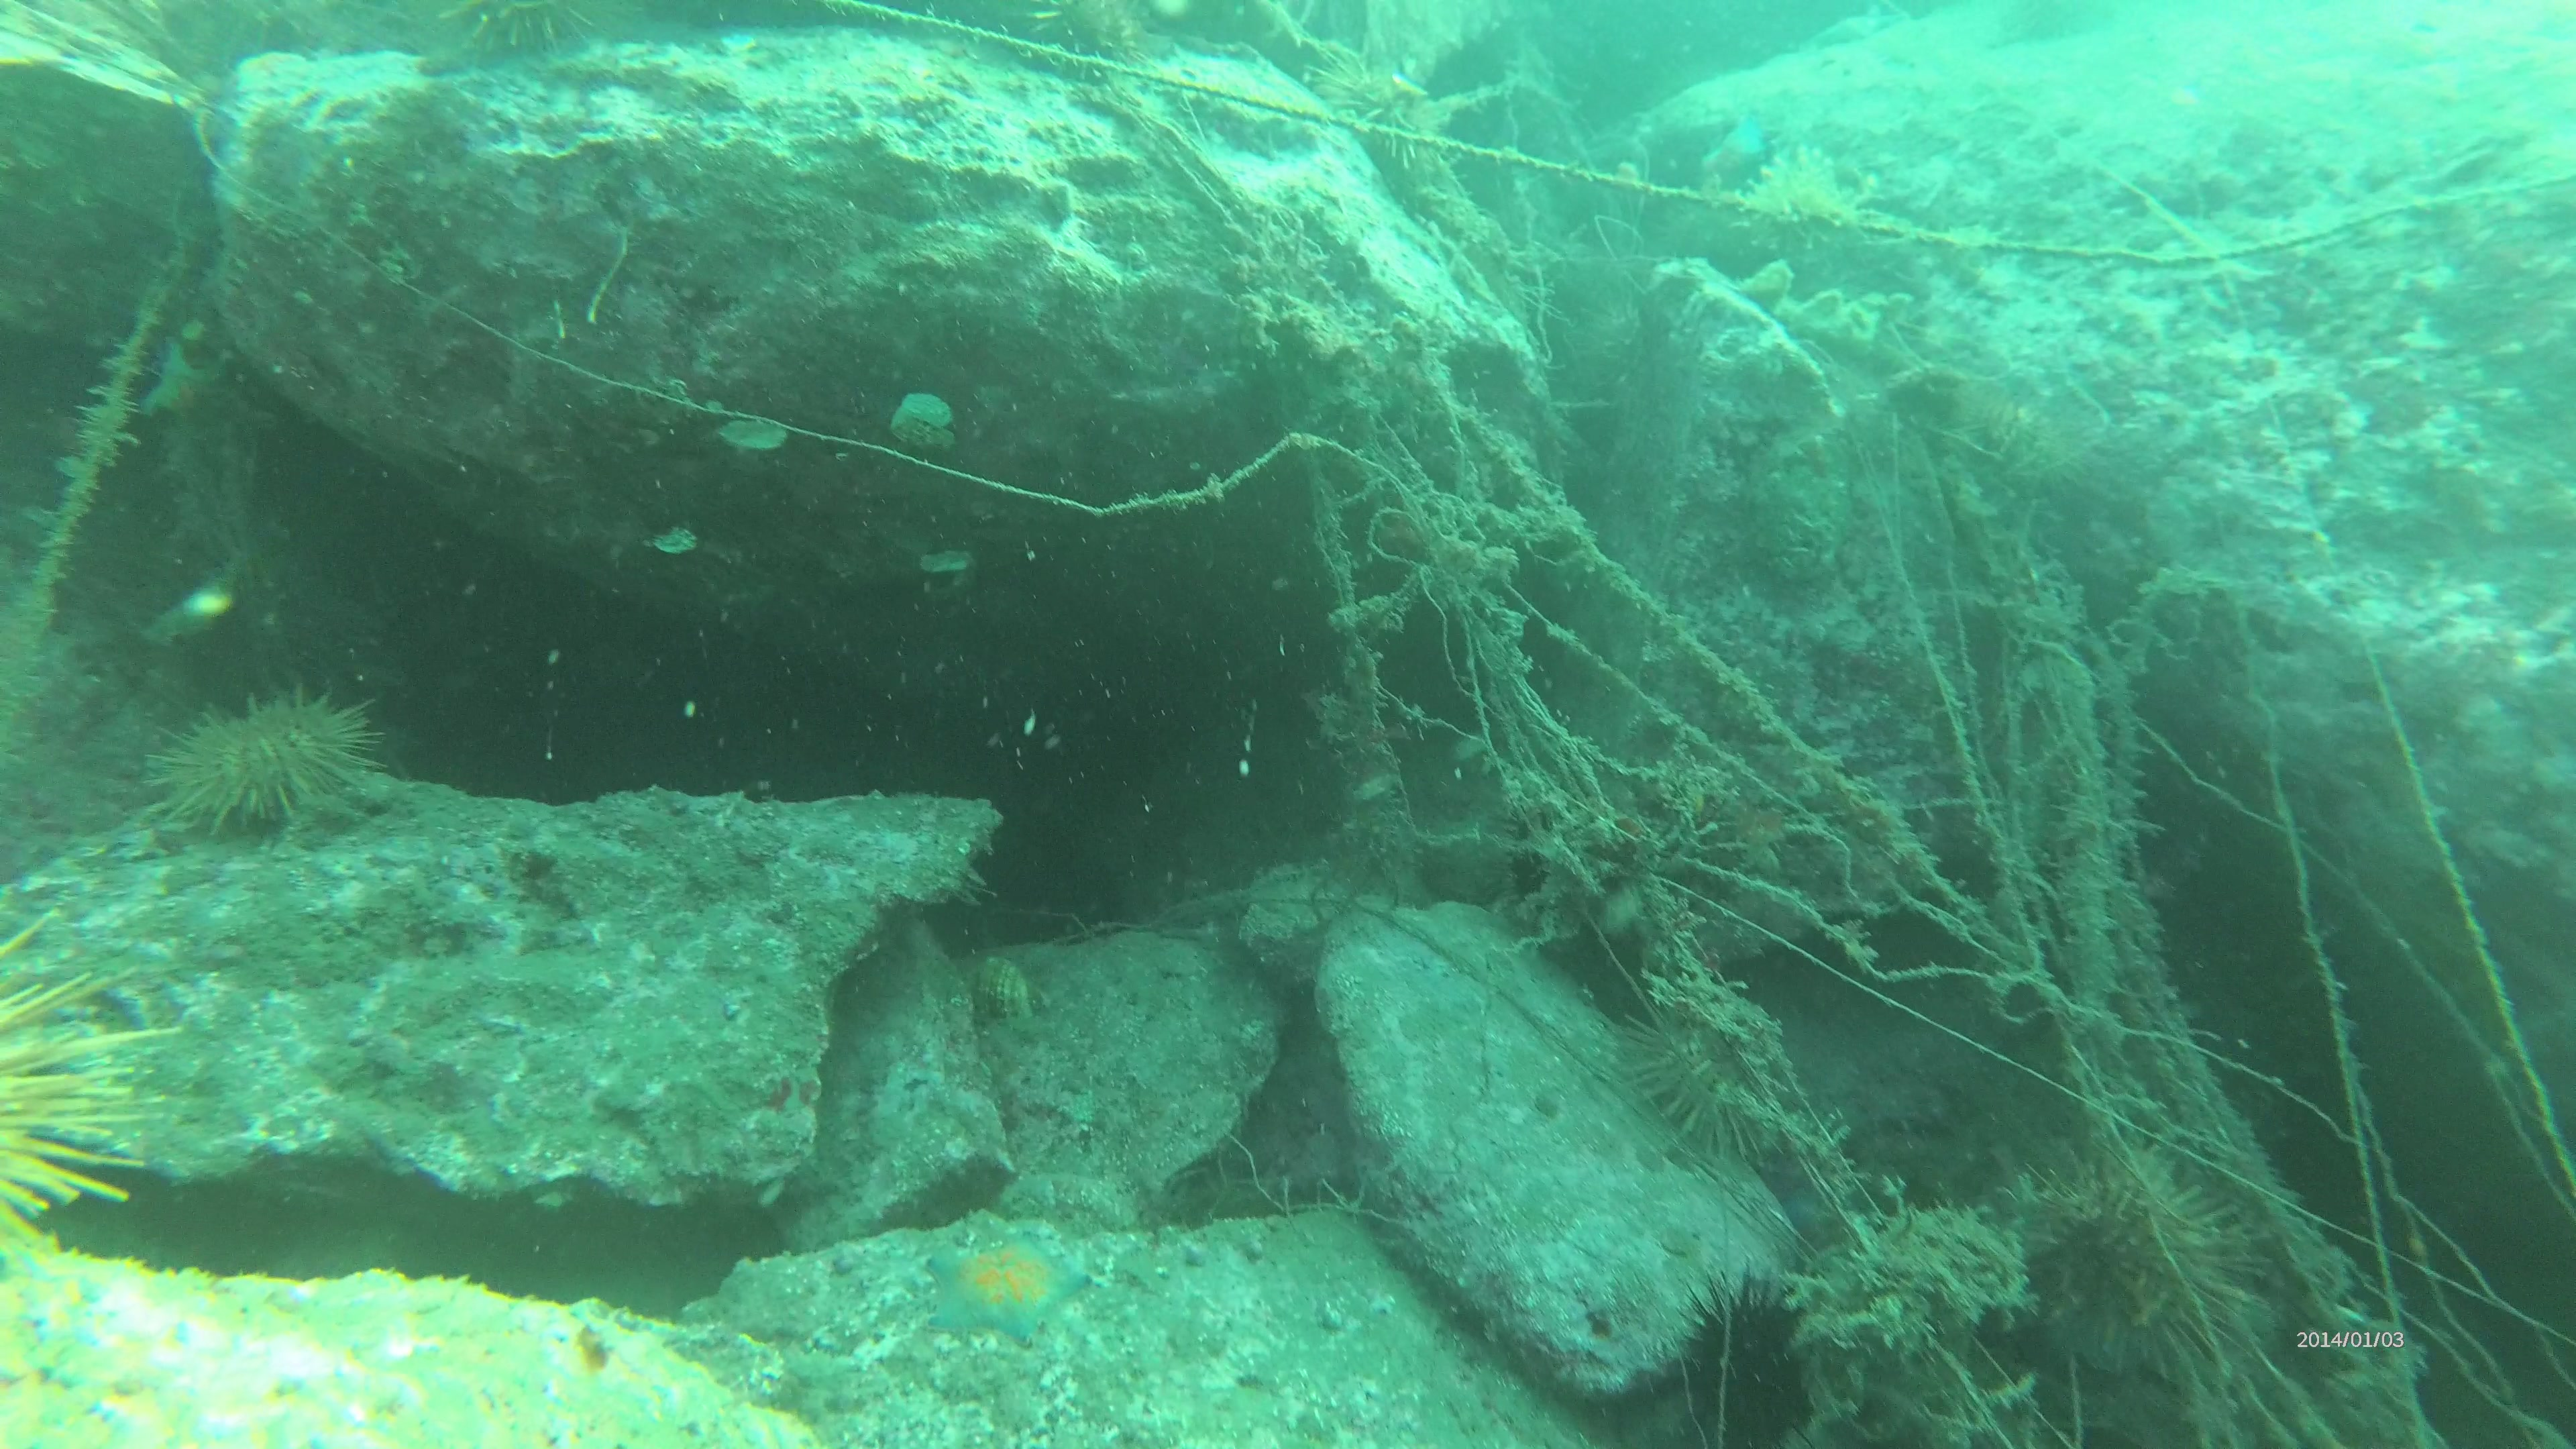echinus: (0, 885, 173, 1265), (2008, 1145, 2254, 1378), (136, 674, 380, 837), (1614, 1007, 1808, 1171), (1668, 1263, 1833, 1449), (1311, 35, 1442, 175), (1005, 0, 1148, 94), (439, 0, 605, 62)
starfish: (929, 1223, 1095, 1345)
